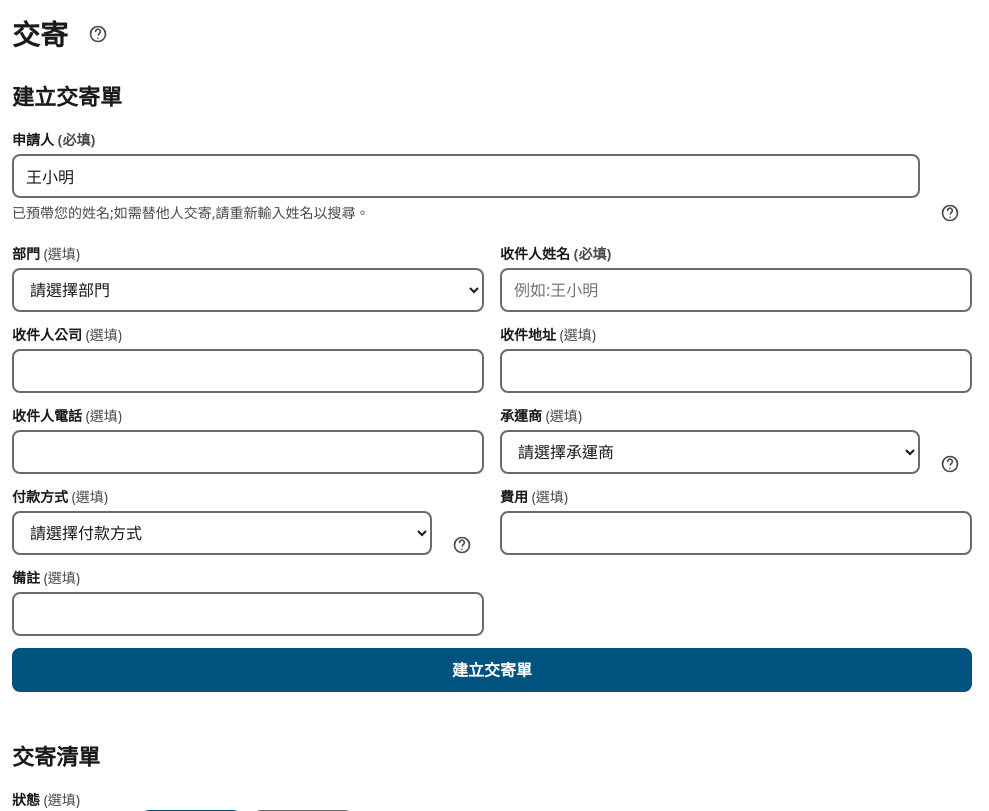
Test: OutboundPage › "其他" carrier -> free-text field › blocks submit with a validation error when "其他" is selected but the free-text field is left blank
The width and height of the screenshot is (989, 811).
Type "客戶 A" into the field labelled "收件人姓名 (必填)" at (736, 290), box [500, 268, 972, 312]
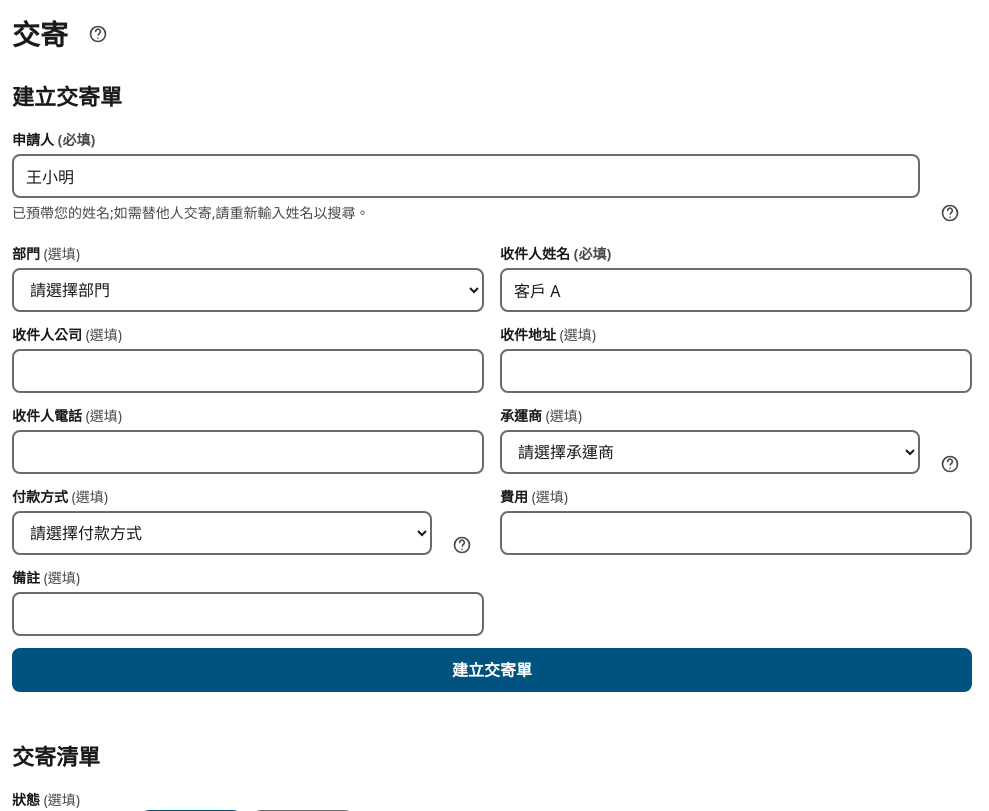
Select "其他" in the dropdown labelled "承運商 (選填)" at (710, 452), box [500, 430, 920, 474]
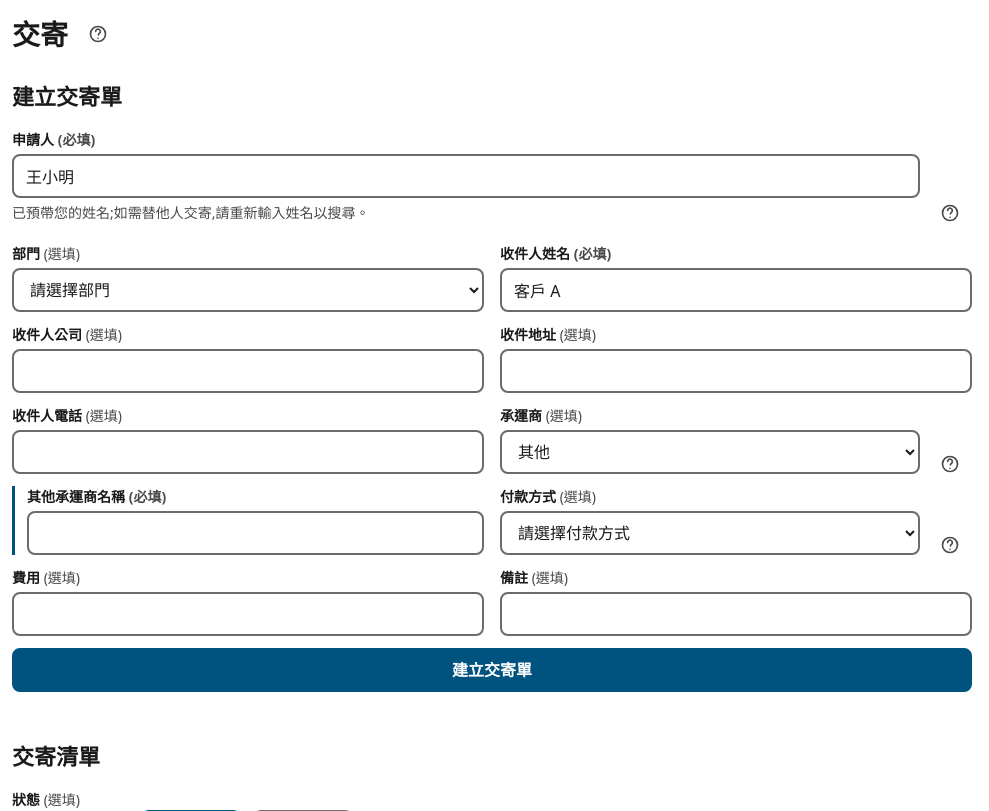
Submit the form that starts with "申請人"
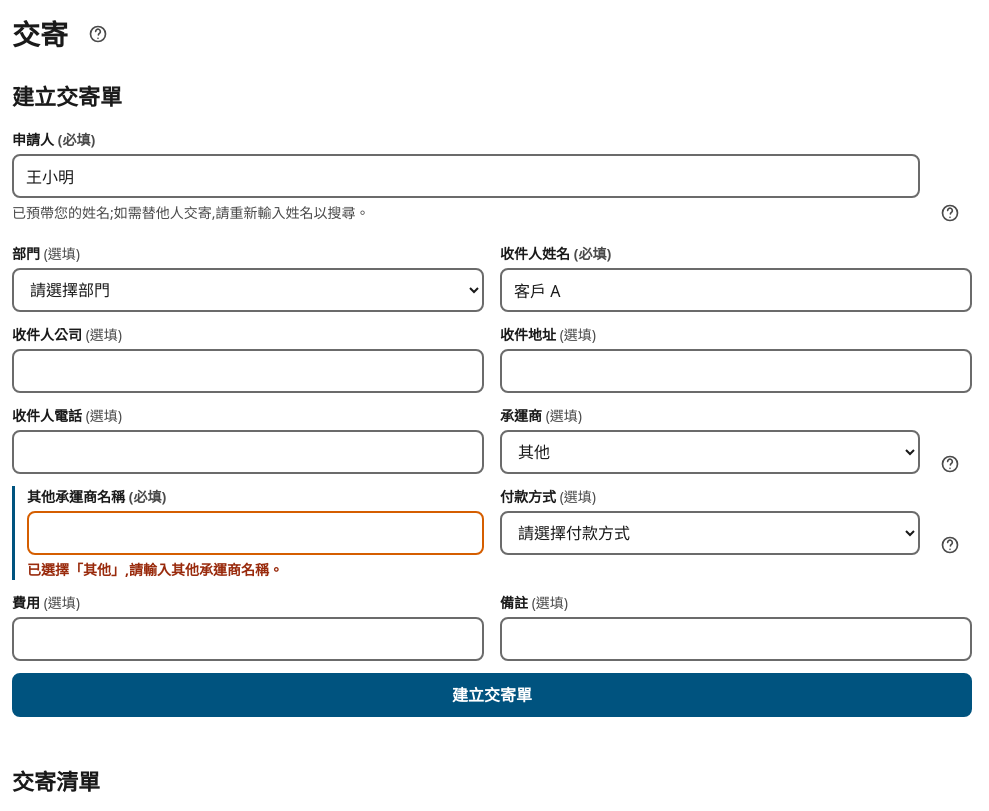
Result: the text "已選擇「其他」,請輸入其他承運商名稱。" is shown at [27, 560, 283, 579]
